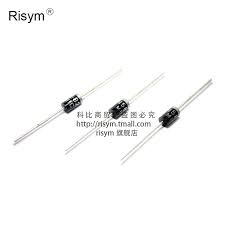diode: (144, 99, 194, 146), (42, 85, 95, 118), (100, 99, 139, 133)
